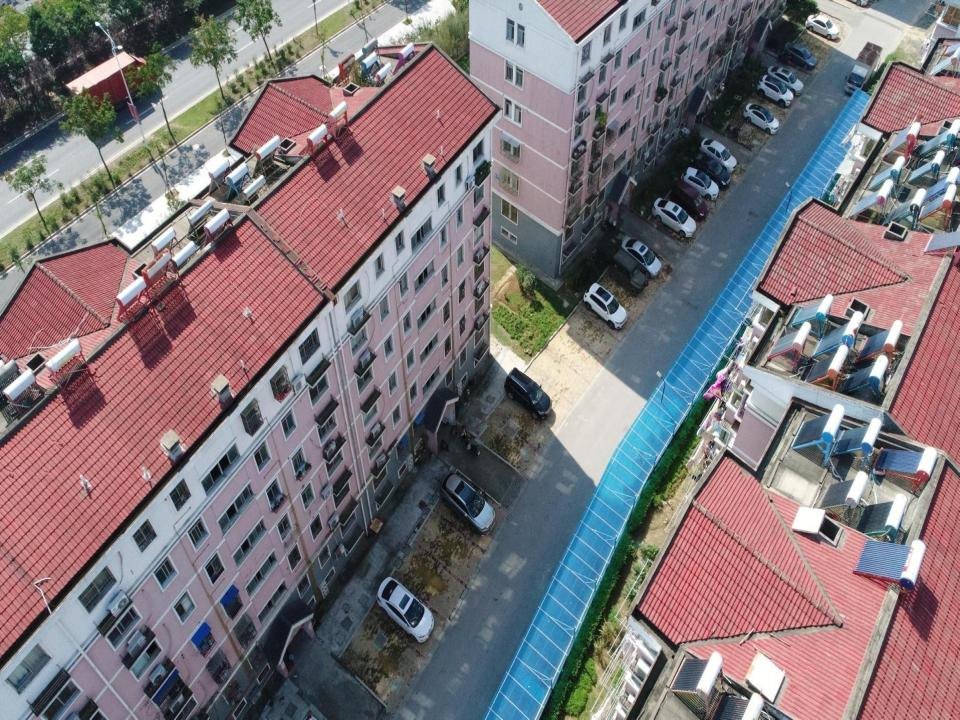car: (376, 576, 434, 643), (440, 470, 495, 536), (504, 367, 552, 420), (583, 282, 627, 329), (652, 197, 696, 237), (610, 249, 648, 295), (621, 236, 661, 278), (672, 178, 709, 219), (699, 138, 737, 173), (680, 166, 719, 200), (756, 74, 794, 108), (694, 153, 730, 188), (767, 66, 804, 96), (744, 103, 779, 134), (784, 42, 817, 70), (805, 15, 839, 40)
truck: (844, 42, 883, 96)
